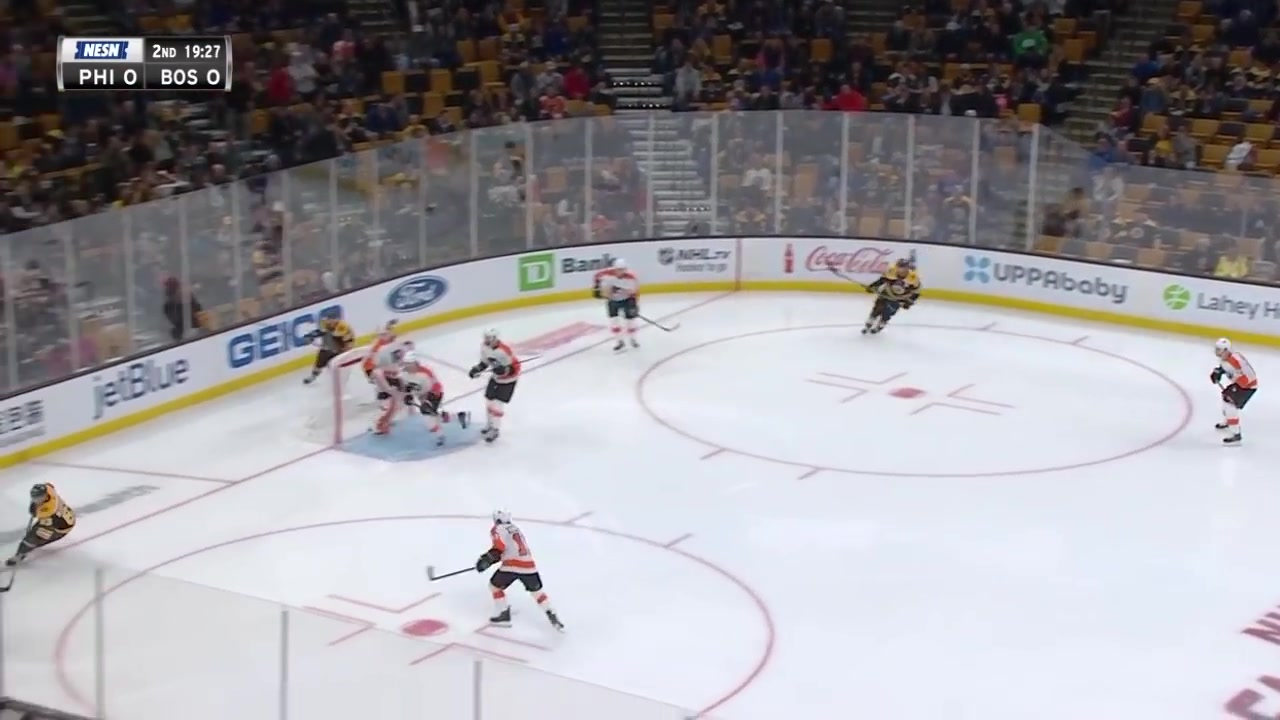Geico: (229, 309, 343, 374)
